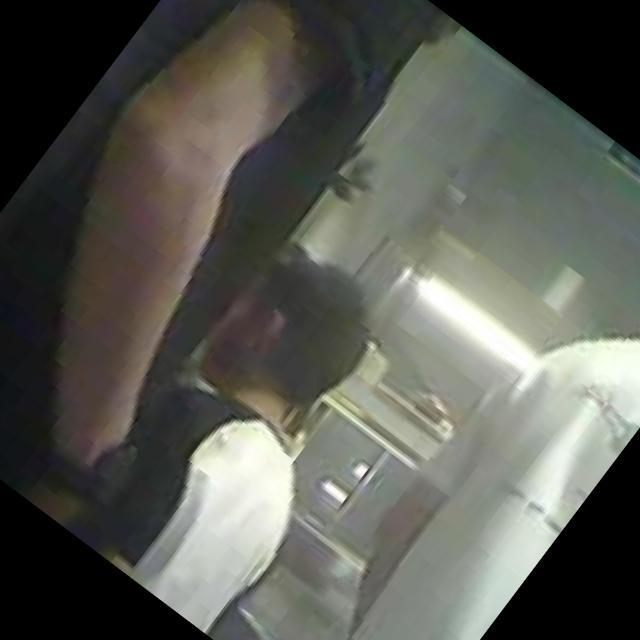person: (0, 0, 462, 528), (53, 221, 440, 640), (261, 246, 640, 640)
